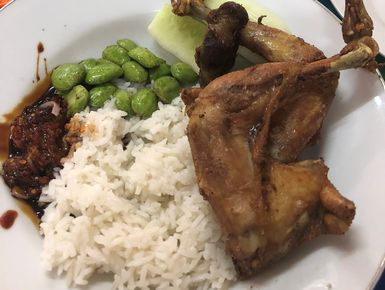Ayam: (189, 39, 344, 271)
